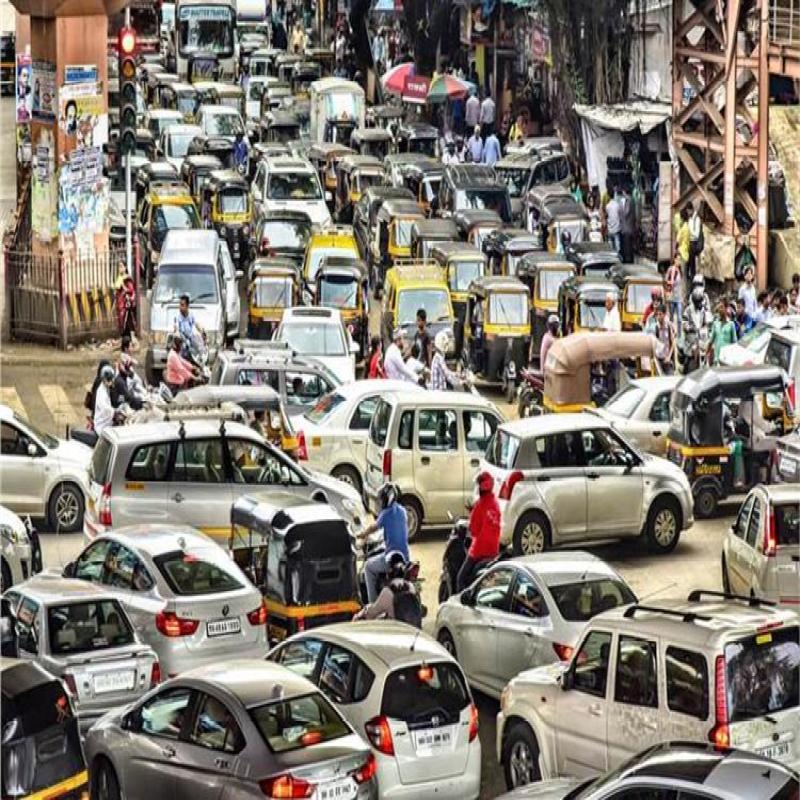auto: (676, 362, 798, 498), (246, 492, 380, 608), (382, 254, 466, 360), (467, 270, 538, 387), (202, 161, 253, 282), (616, 260, 674, 348), (246, 251, 301, 334), (312, 254, 367, 330)
car: (511, 591, 800, 776), (78, 419, 387, 531), (104, 682, 363, 800), (322, 631, 483, 785), (496, 405, 686, 534), (376, 411, 492, 524)
